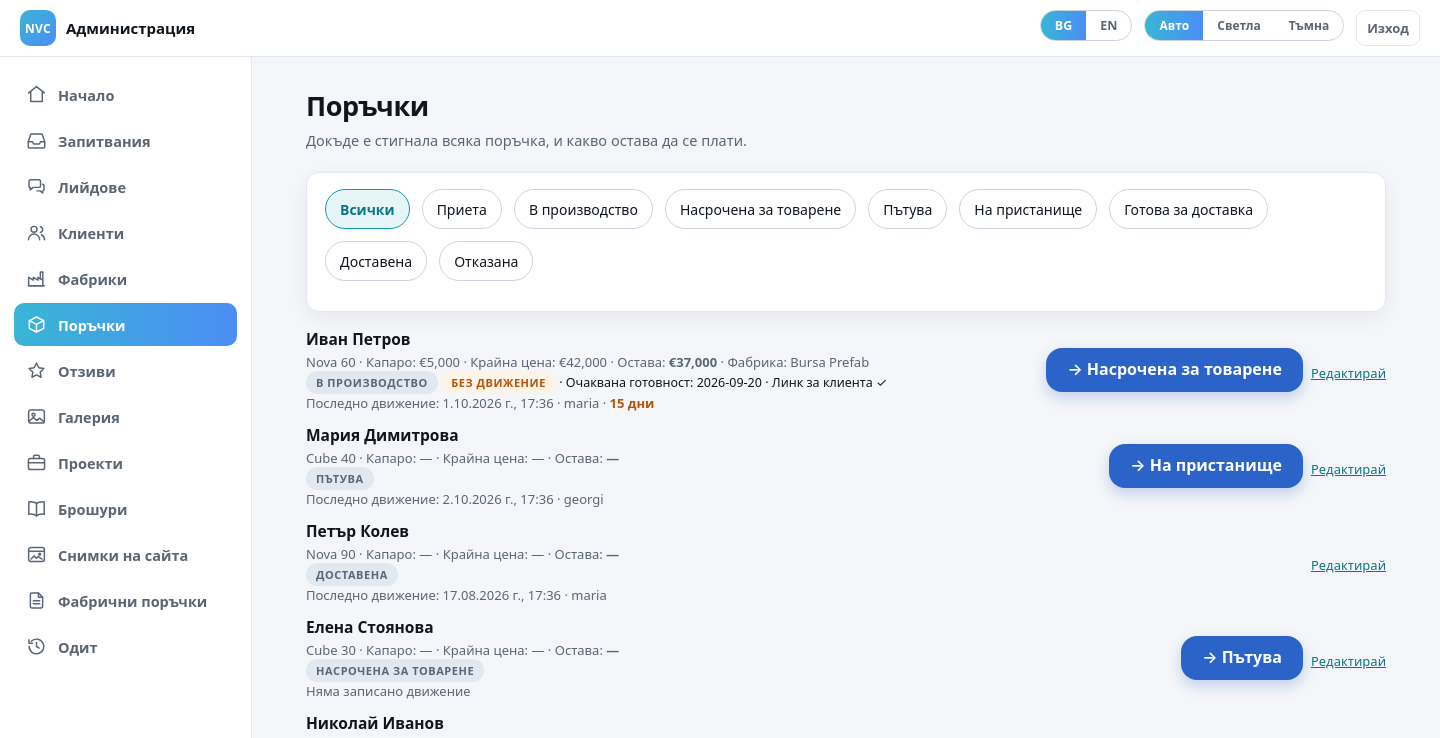
Scenario: AdminOrdersPage › moves an order exactly one step, carrying the carrier fields with it
Expected: the text "Иван Петров" is shown, [306,328,411,350]
Click the button with aria-label "Премести на: Насрочена за товарене" at (1175, 370), box [1046,348,1303,392]
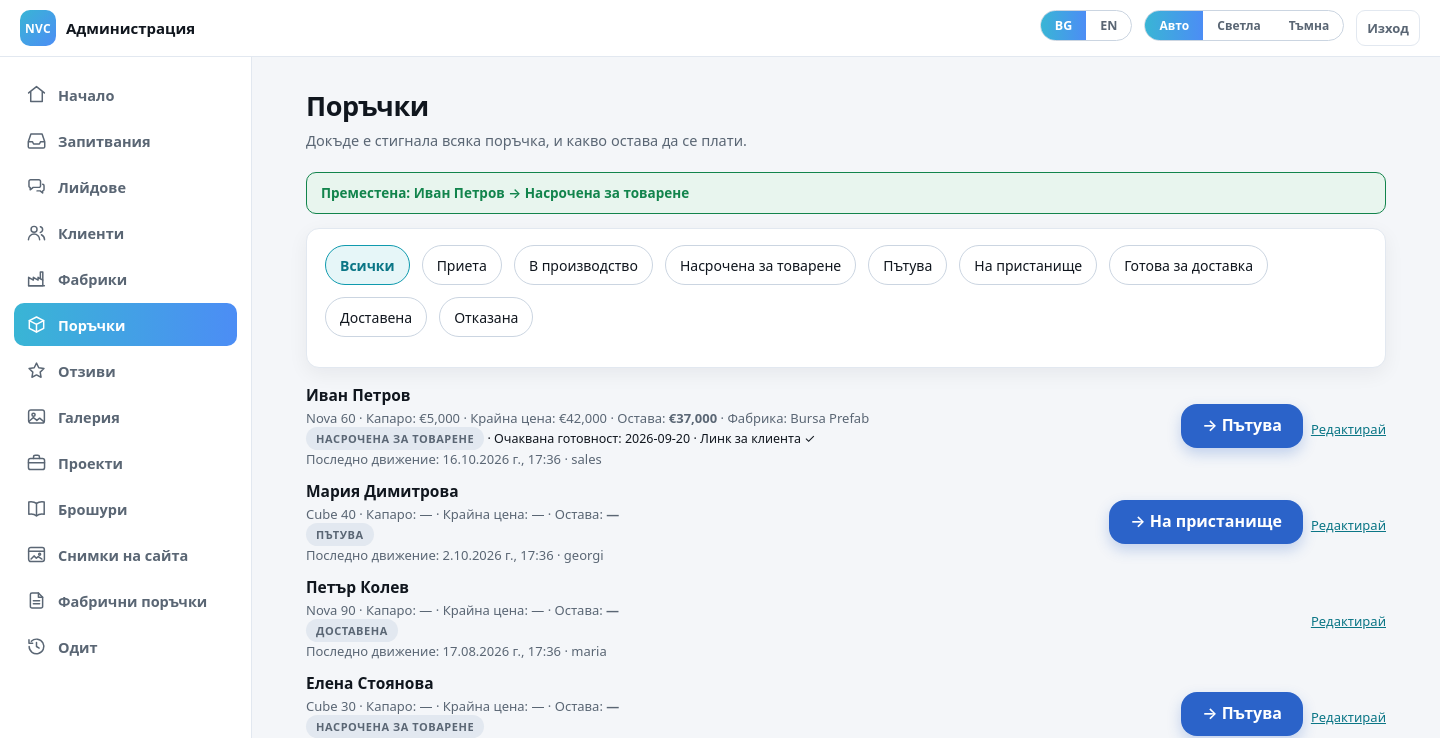
Result: the text "Насрочена за товарене" next to "Очаквана готовност" is shown at [316,431,474,446]
Result: the button with aria-label "Премести на: Пътува" is shown at [1181,404,1303,448]
